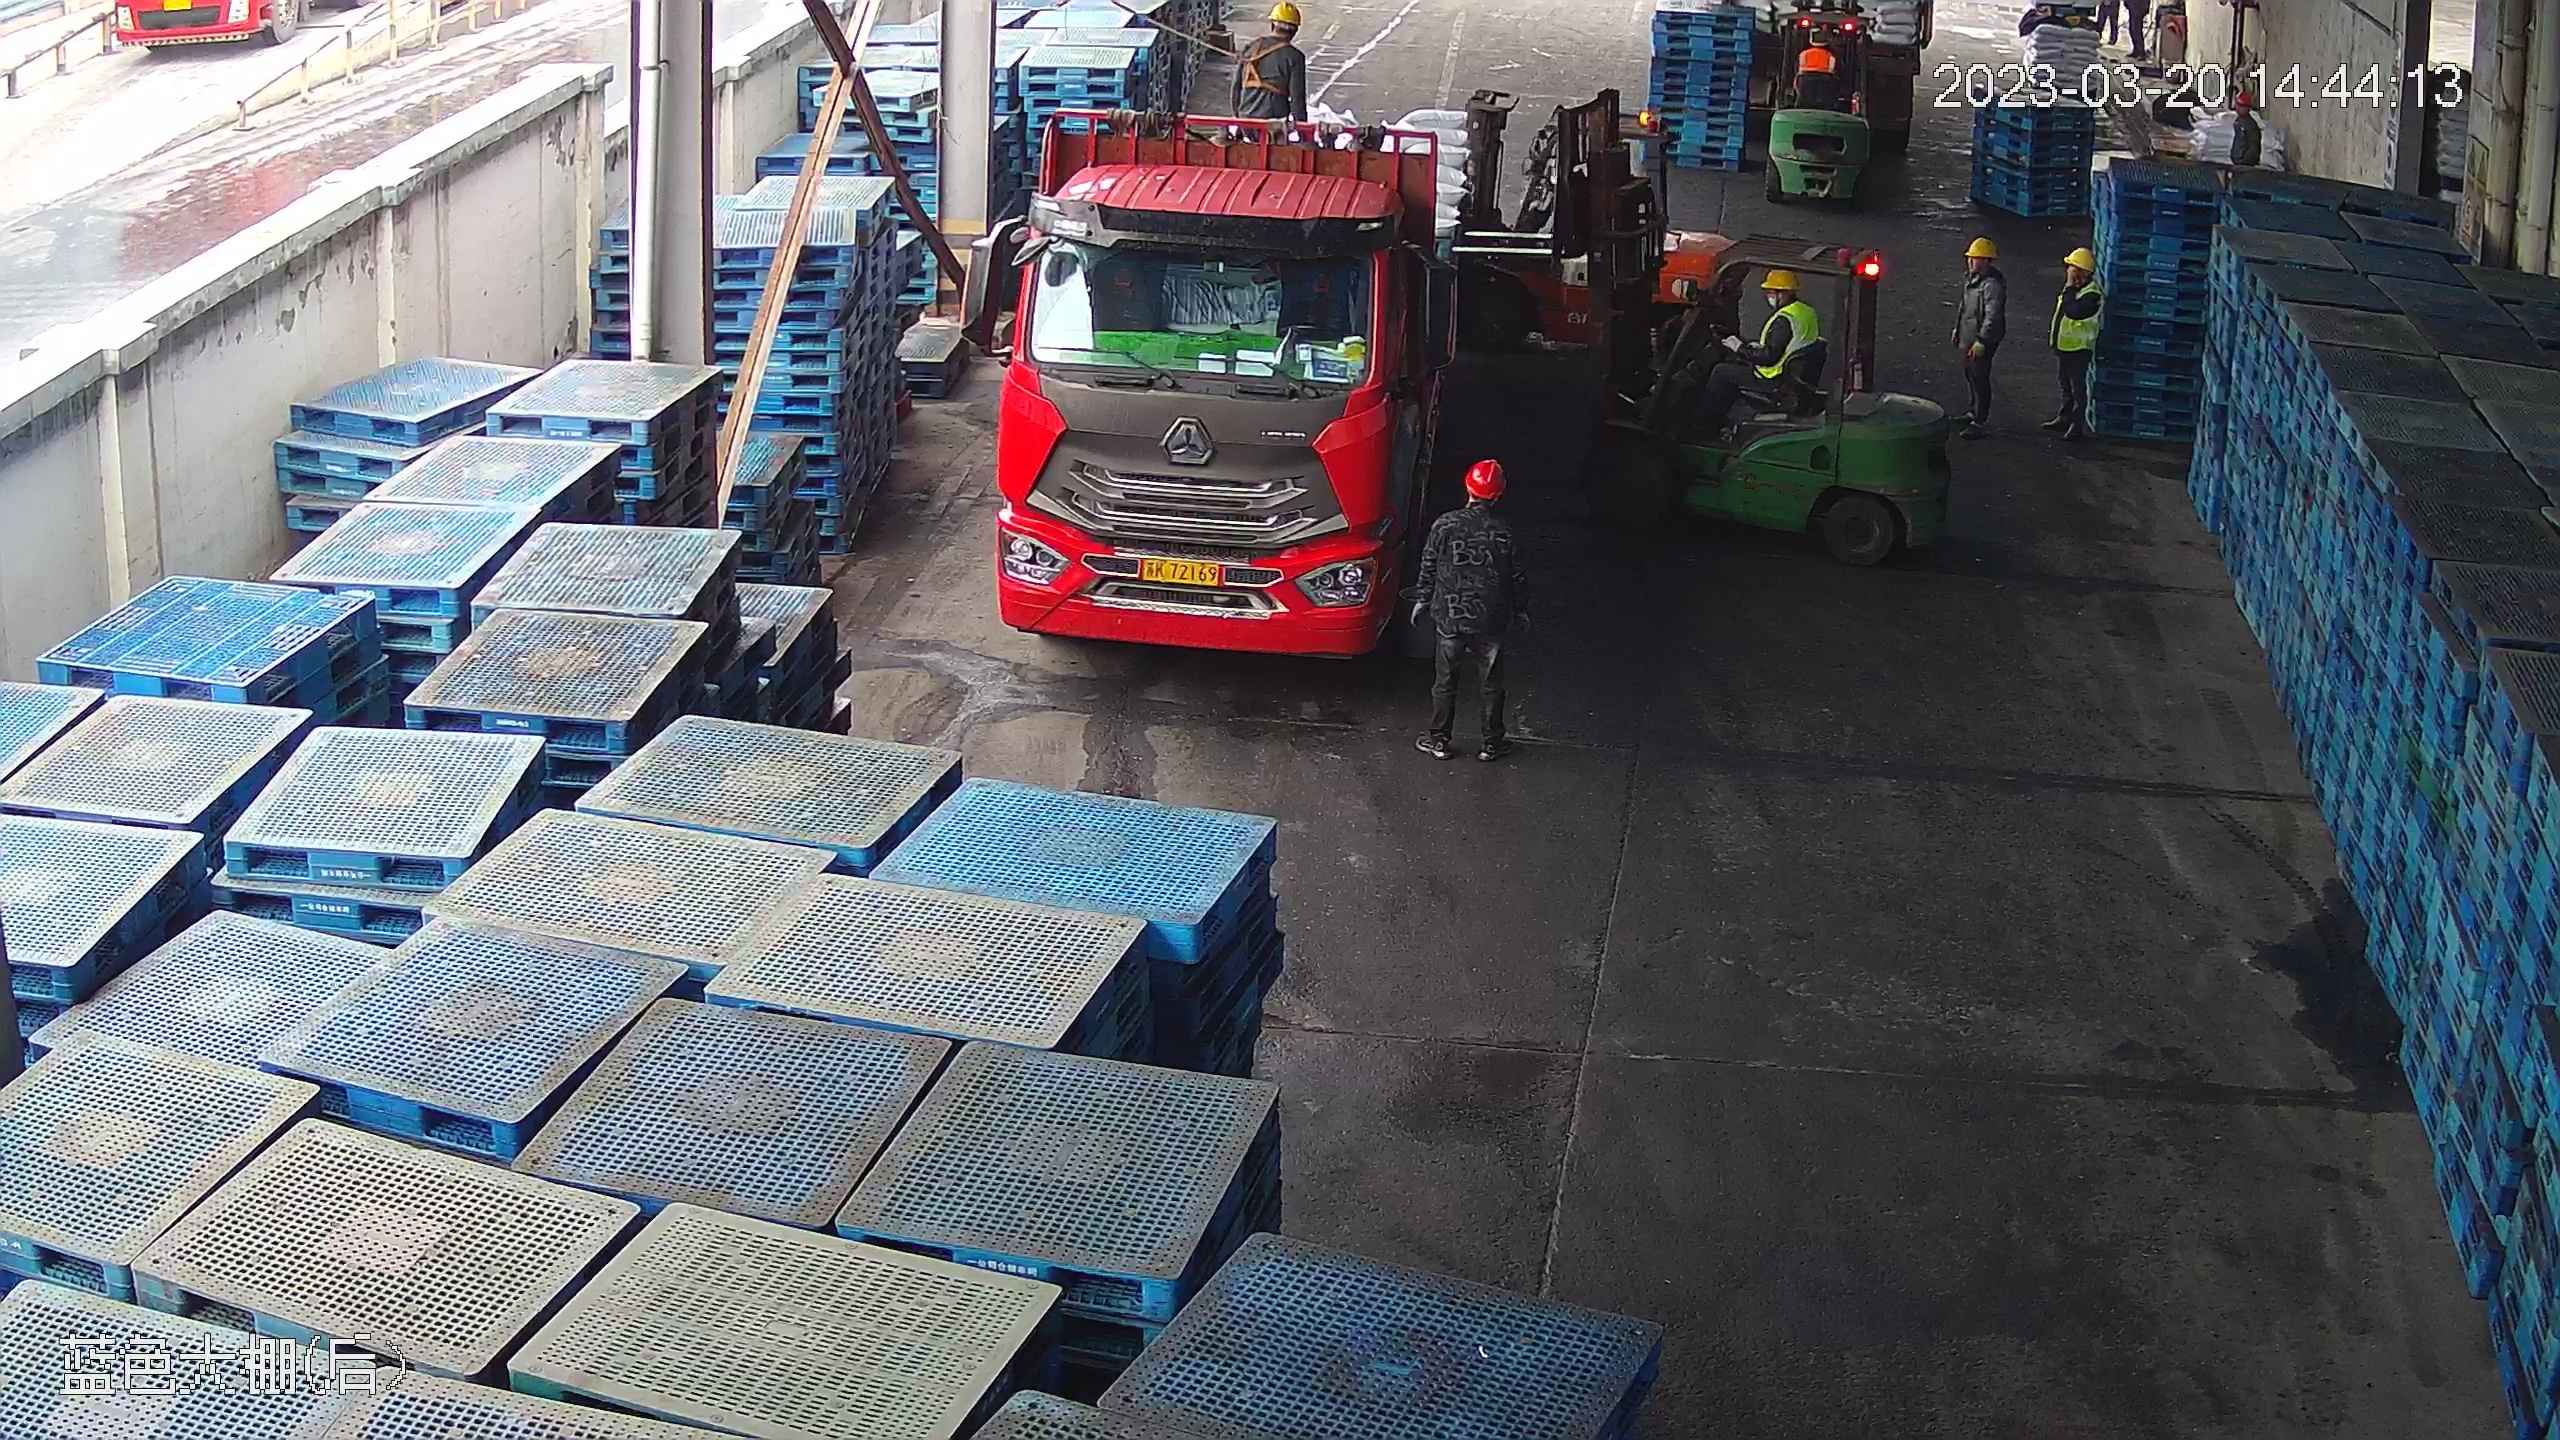belt: (1238, 37, 1288, 92)
head: (1440, 458, 1517, 550), (1755, 266, 1818, 339), (1958, 233, 2010, 299), (1252, 1, 1307, 56), (2053, 246, 2103, 303)
helmet: (1464, 455, 1507, 492), (2060, 245, 2099, 283), (1965, 234, 2000, 260), (1764, 268, 1801, 292), (1270, 1, 1303, 22)
people: (1419, 460, 1525, 765), (1691, 270, 1821, 428), (2043, 243, 2104, 446), (1241, 1, 1320, 149), (1951, 234, 2007, 438)
truck: (968, 47, 1465, 658)
